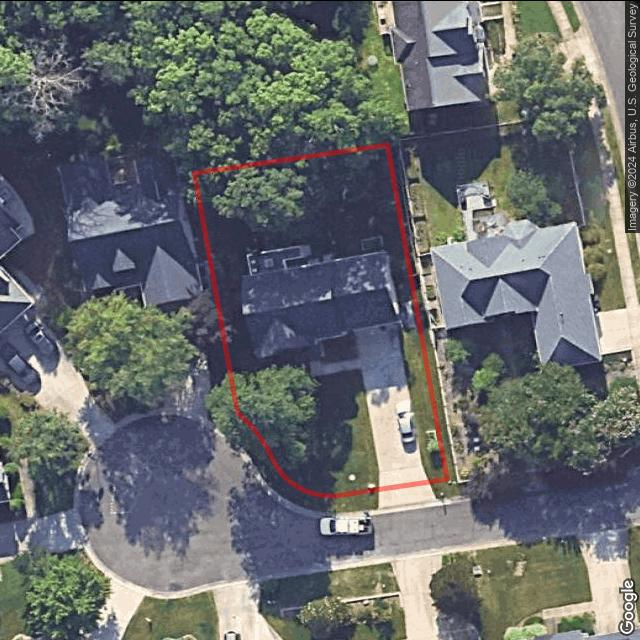Driveway: (356, 322, 429, 490)
Extra-Driveway: (379, 482, 438, 507)
Extra-Lawn: (239, 417, 380, 513), (429, 479, 453, 497)
House: (241, 250, 399, 358)
Lawn: (195, 143, 447, 495)
Other: (246, 244, 311, 274), (428, 429, 438, 450), (349, 472, 356, 480), (368, 482, 376, 487)
Sidewalk: (308, 353, 361, 375)
